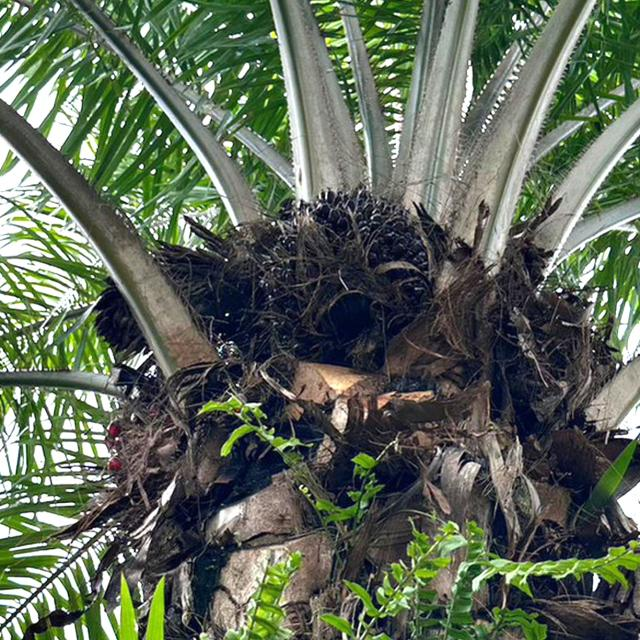almost: (262, 177, 446, 360)
